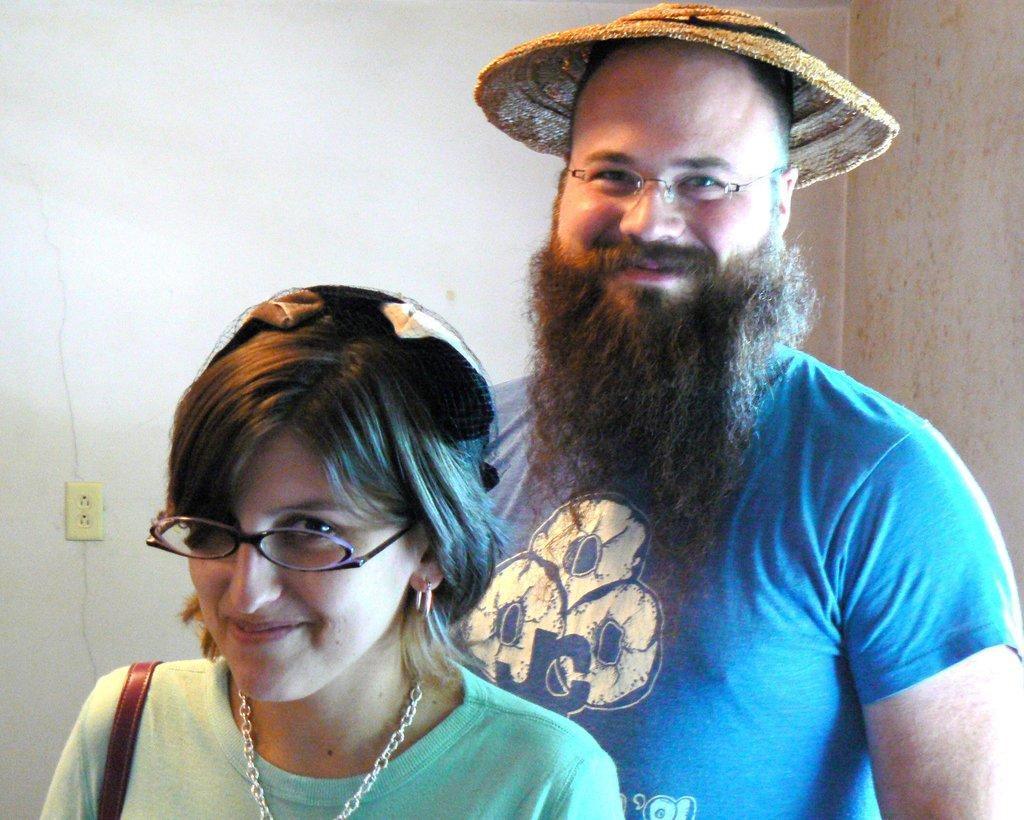Hat: (472, 1, 896, 198)
